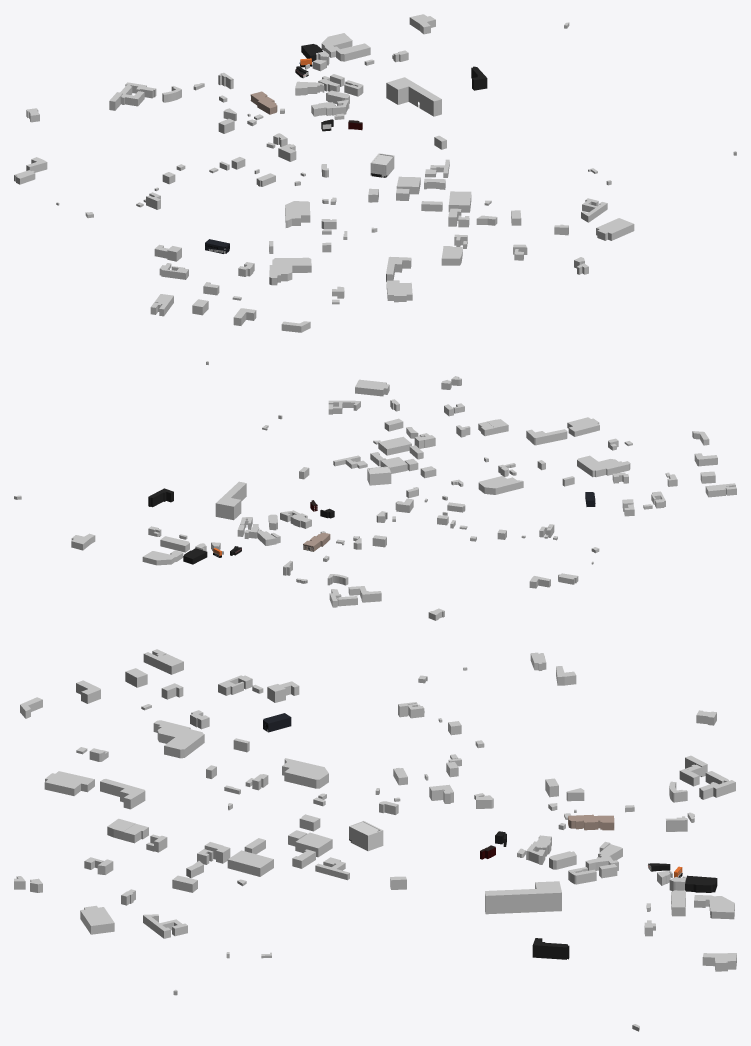
File: buildings_a-e_.fbx
The picture shows the model from 3 angles, top to bottom: view 1: azimuth 30°, elevation 25°; view 2: azimuth 150°, elevation 25°; view 3: azimuth 270°, elevation 25°; orthographic projection. The views are drawn at different scales.
Visible parts, largest first — view 1: Arundel Gate, Atkinsons, DFS, Debenhams, Decathlon; view 2: Arundel Gate, Atkinsons, Debenhams, Central Fire Station, DFS, Decathlon, Castle House, Cantor Building, Charles Street; view 3: Arundel Gate, Atkinsons, Debenhams, Decathlon, Cantor Building, Charles Street, Central Fire Station, DFS, Castle House, Cutlers' Hall, Beehive Works, Columbia Place (+2 smaller).
Boxes of the visible parts, box(x1,y1,x2,y2) form: Arundel Gate: box(386, 77, 441, 116); Atkinsons: box(269, 257, 311, 285); DFS: box(596, 218, 634, 240); Debenhams: box(285, 201, 310, 227); Decathlon: box(386, 280, 412, 302); Arundel Gate: box(215, 481, 246, 520); Atkinsons: box(577, 455, 630, 476); Debenhams: box(478, 476, 523, 494); Central Fire Station: box(526, 429, 567, 445); DFS: box(355, 379, 389, 396); Decathlon: box(567, 417, 599, 436); Castle House: box(142, 550, 183, 565); Cantor Building: box(378, 436, 411, 455); Charles Street: box(367, 466, 391, 485); Arundel Gate: box(485, 881, 561, 914); Atkinsons: box(153, 720, 204, 758); Debenhams: box(282, 758, 328, 788); Decathlon: box(44, 771, 94, 795); Cantor Building: box(227, 850, 273, 876); Charles Street: box(349, 821, 383, 851); Central Fire Station: box(100, 779, 145, 809); DFS: box(80, 905, 114, 934); Castle House: box(694, 895, 734, 919); Cutlers' Hall: box(568, 814, 614, 830); Beehive Works: box(143, 649, 183, 674); Columbia Place: box(143, 914, 187, 938).
Bounding box in the file's own units: 1441 × 60.29 × 1212.
